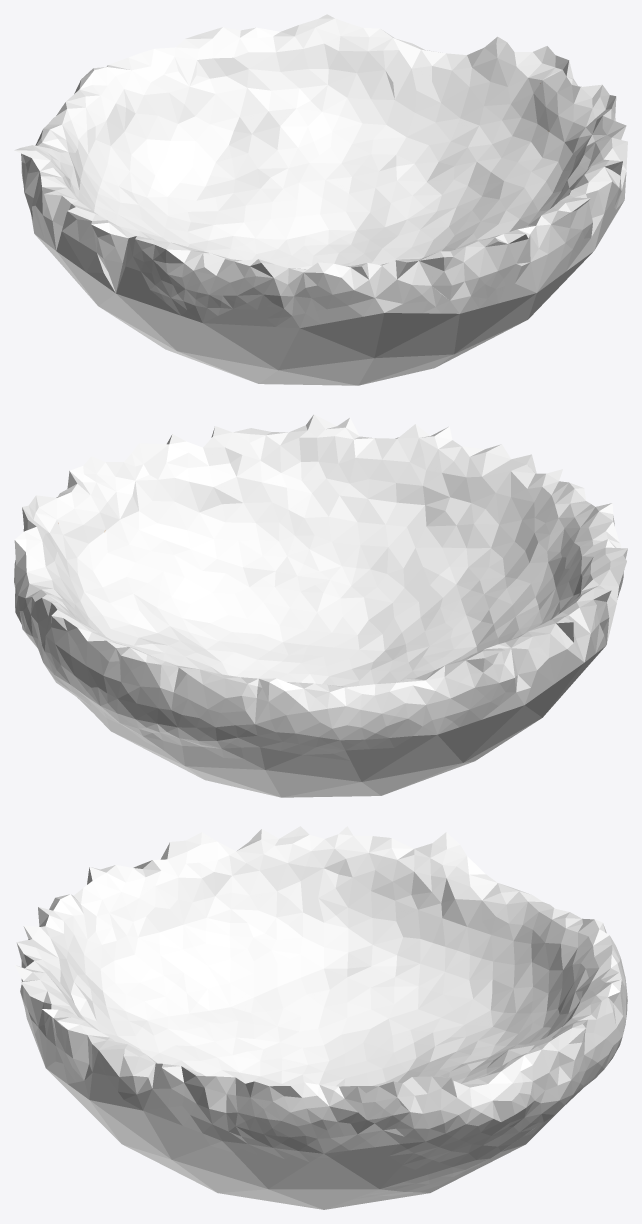
The model's file is TerrainBottum.fbx.
3 views of the same model, one above another, from view 1: azimuth 30°, elevation 25°; view 2: azimuth 150°, elevation 25°; view 3: azimuth 270°, elevation 25° (orthographic).
Visible parts, largest first — view 1: WorldBottum; view 2: WorldBottum; view 3: WorldBottum.
Boxes of the visible parts, box(x1,y1,x2,y2) form: WorldBottum: box(14, 14, 627, 385); WorldBottum: box(14, 414, 627, 797); WorldBottum: box(14, 826, 627, 1209).
Bounding box in the file's own units: 1556 × 1550 × 626.
